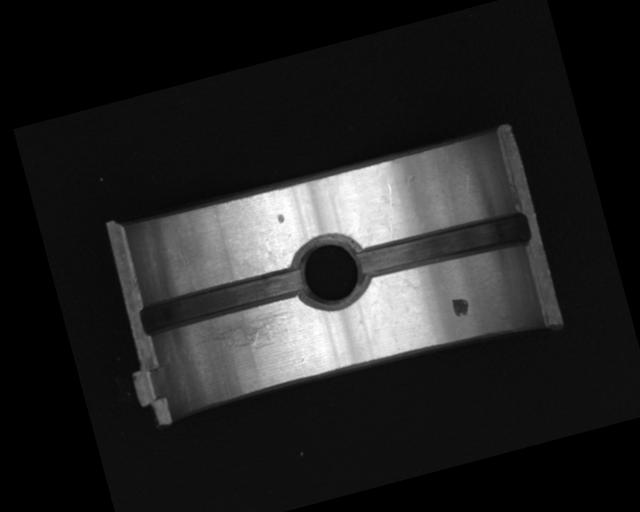blot: (449, 294, 471, 318)
bruise: (275, 212, 285, 224)
gap: (353, 207, 531, 286), (137, 263, 307, 338)
hole: (287, 229, 370, 317)
nick: (376, 183, 406, 242)
scratch: (191, 303, 301, 364)
